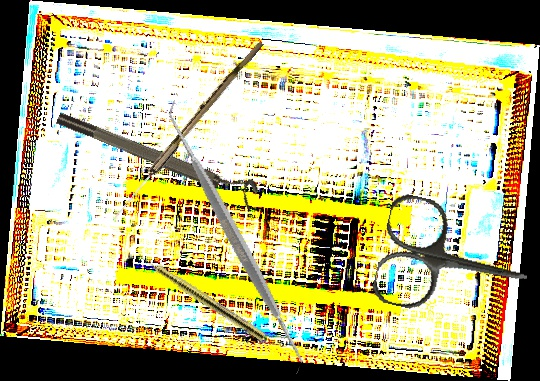Fixation Ring: (54, 100, 261, 210)
Handpiece: (132, 248, 267, 342)
Iris Scissors: (369, 191, 540, 333)
Spatula Surgical: (95, 99, 376, 375)
Surgical Spoon: (110, 37, 264, 224)
